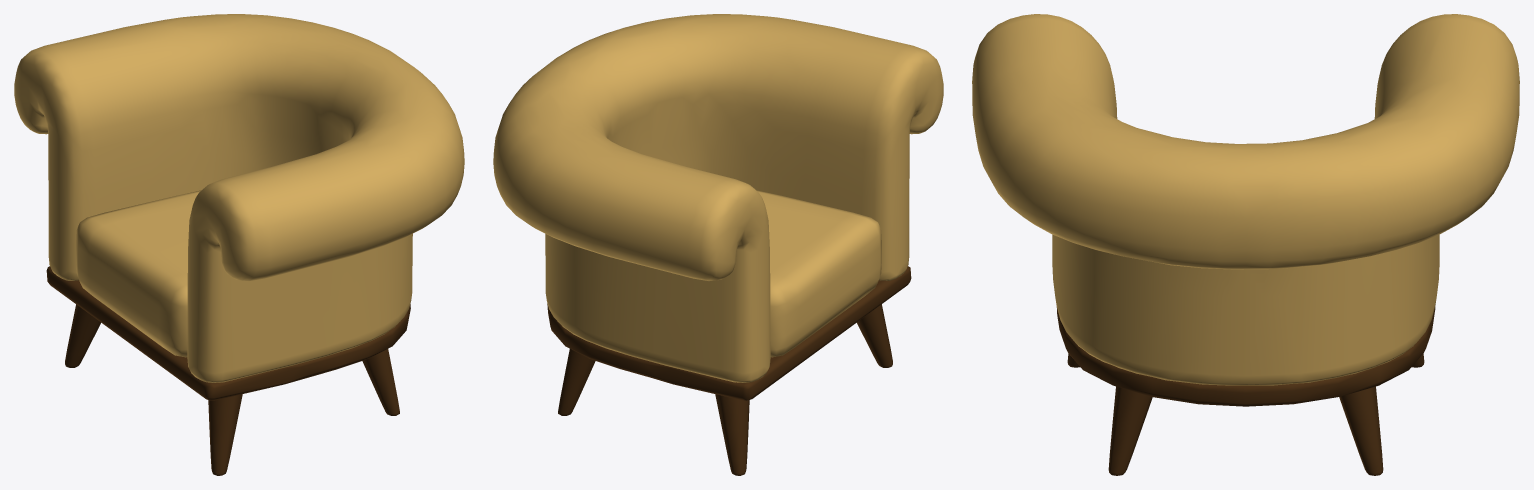
The model's file is armchair_09_yellow.fbx.
3 renders of one model, left to right at view 1: azimuth 30°, elevation 25°; view 2: azimuth 150°, elevation 25°; view 3: azimuth 270°, elevation 25°, orthographic. The views are drawn at different scales.
Visible parts, largest first — view 1: armchair_09_yellow; view 2: armchair_09_yellow; view 3: armchair_09_yellow.
Part boxes in pixels (x1,y1,x2,y2): armchair_09_yellow: (14,14,464,475); armchair_09_yellow: (493,14,943,475); armchair_09_yellow: (972,14,1519,475).
Size of the model in its own units: 106 by 102 by 145.
2 materials, 2 textured.
